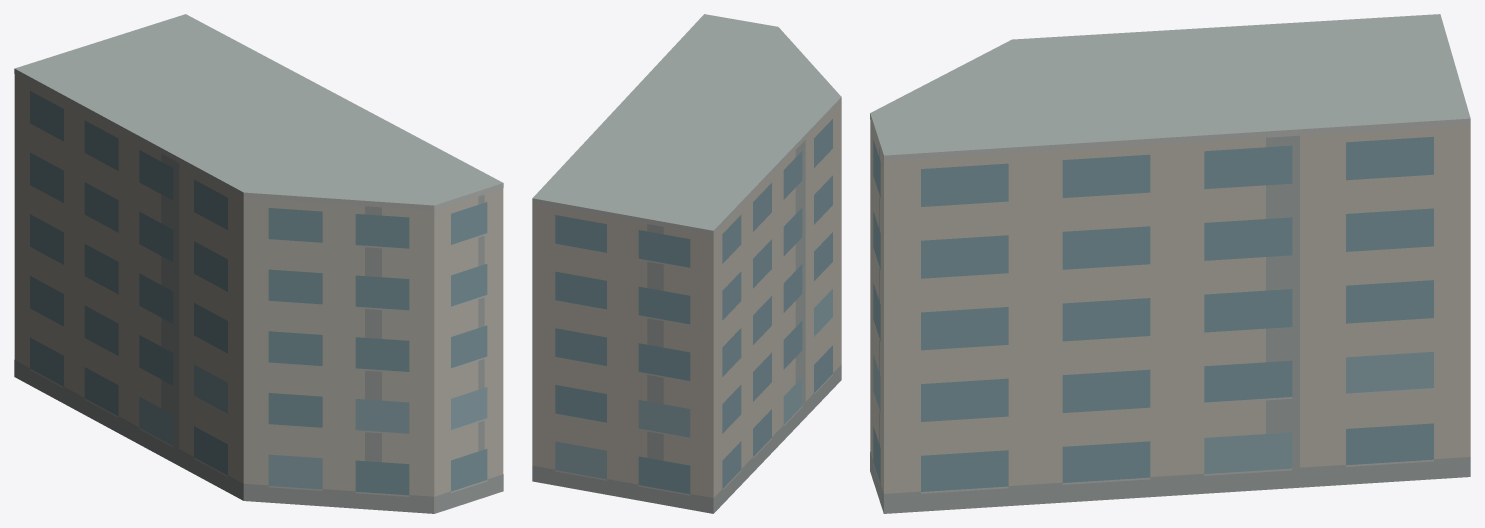
The model's file is survey-upis-32765201.glb.
The picture shows the model from 3 angles, left to right: view 1: azimuth 30°, elevation 25°; view 2: azimuth 150°, elevation 25°; view 3: azimuth 270°, elevation 25°; orthographic projection. The views are drawn at different scales.
Visible parts, largest first — view 1: survey-upis-32765201.tmp; view 2: survey-upis-32765201.tmp; view 3: survey-upis-32765201.tmp.
Boxes of the visible parts, x1,y1,x2,y2 form: survey-upis-32765201.tmp: [14, 14, 503, 513]; survey-upis-32765201.tmp: [532, 14, 841, 513]; survey-upis-32765201.tmp: [870, 14, 1470, 513].
Bounding box in the file's own units: 11.7 × 13.8 × 20.97.
